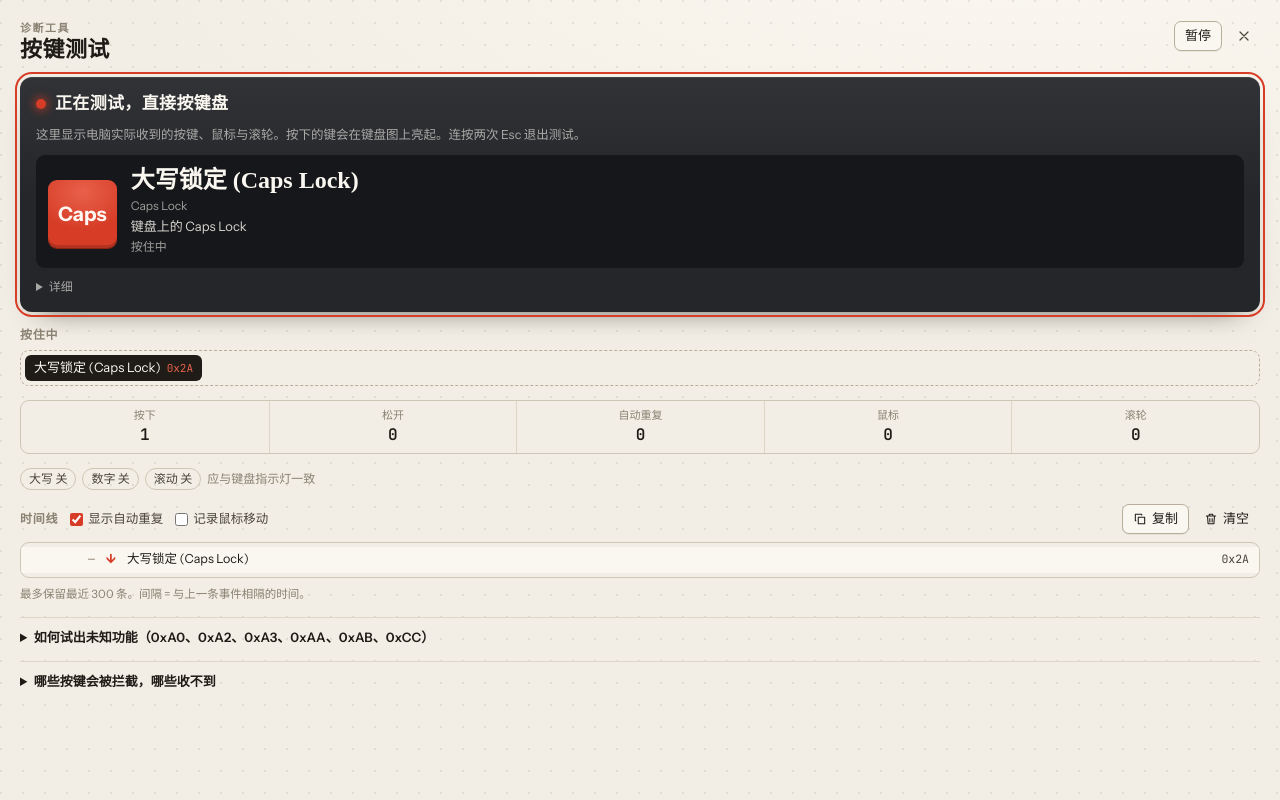
Test: KeyTesterPanel › shows the live state, the last key, held keys and highlights the physical key
Later steps or results of the test are not shown.
Check: the text "正在测试，直接按键盘" is shown, box [55,91,228,116]
Check: the text "这里显示电脑实际收到的按键、鼠标与滚轮。按下的键会在键盘图上亮起。连按两次 Esc 退出测试。" is shown, box [36,127,586,142]
Click the heading "详细" at {"x": 61, "y": 287}, box [49,279,73,294]
Wait 1000 ms
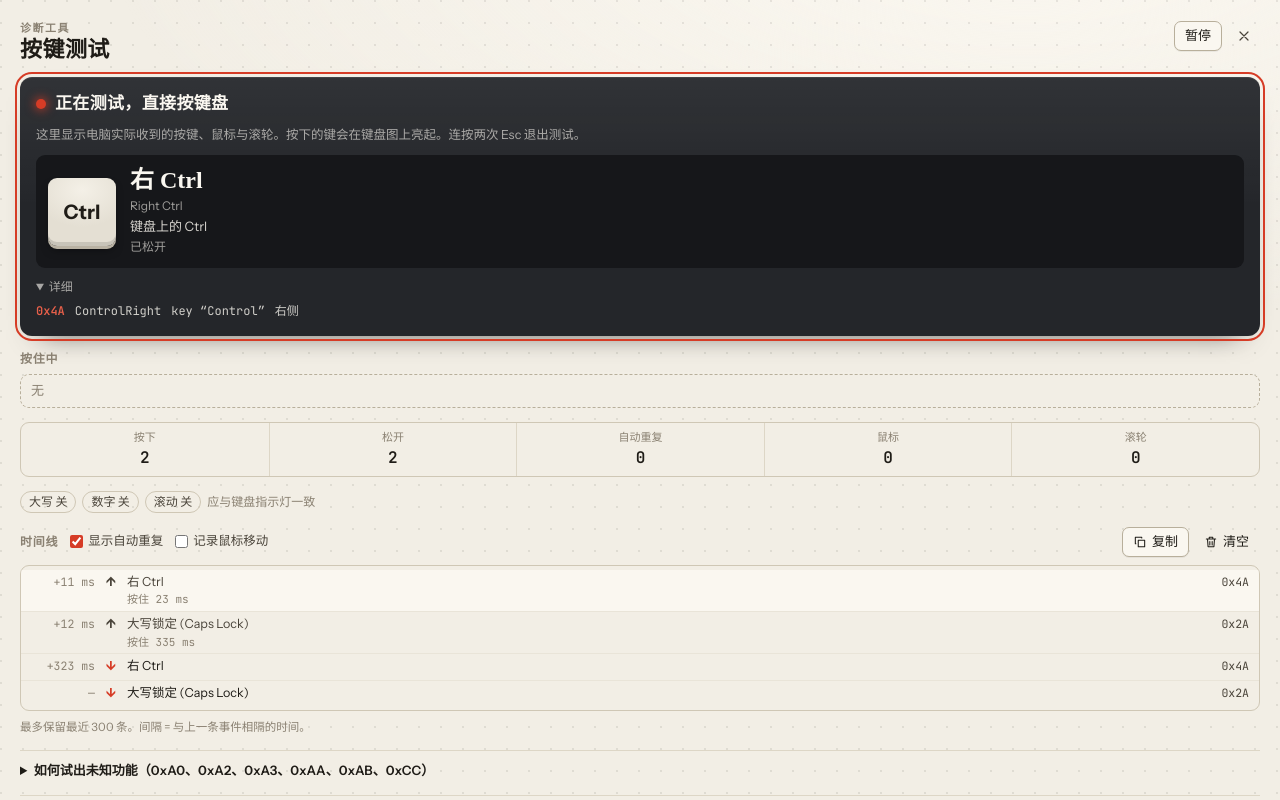
Check: the text "0x2A" next to "ControlRight" is shown, box [36,302,65,320]
Check: the text "CapsLock" is shown, box [75,302,161,320]
Check: the list item "无" is shown, box [31,382,44,398]
